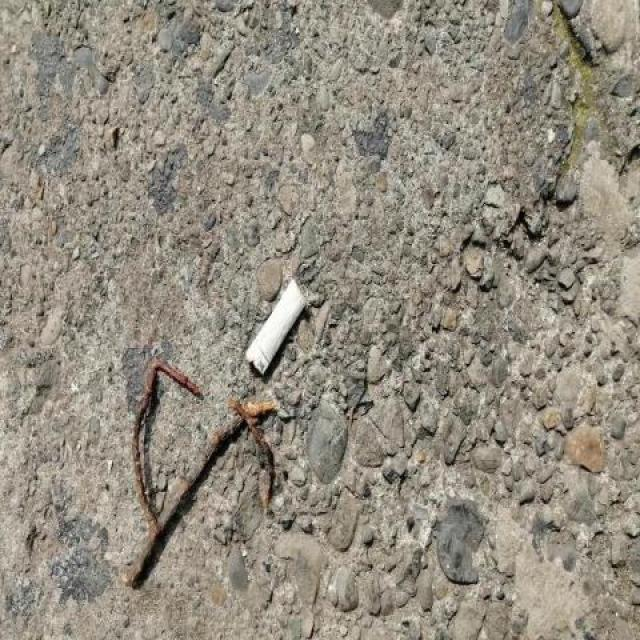non-organic waste: (241, 276, 312, 381)
